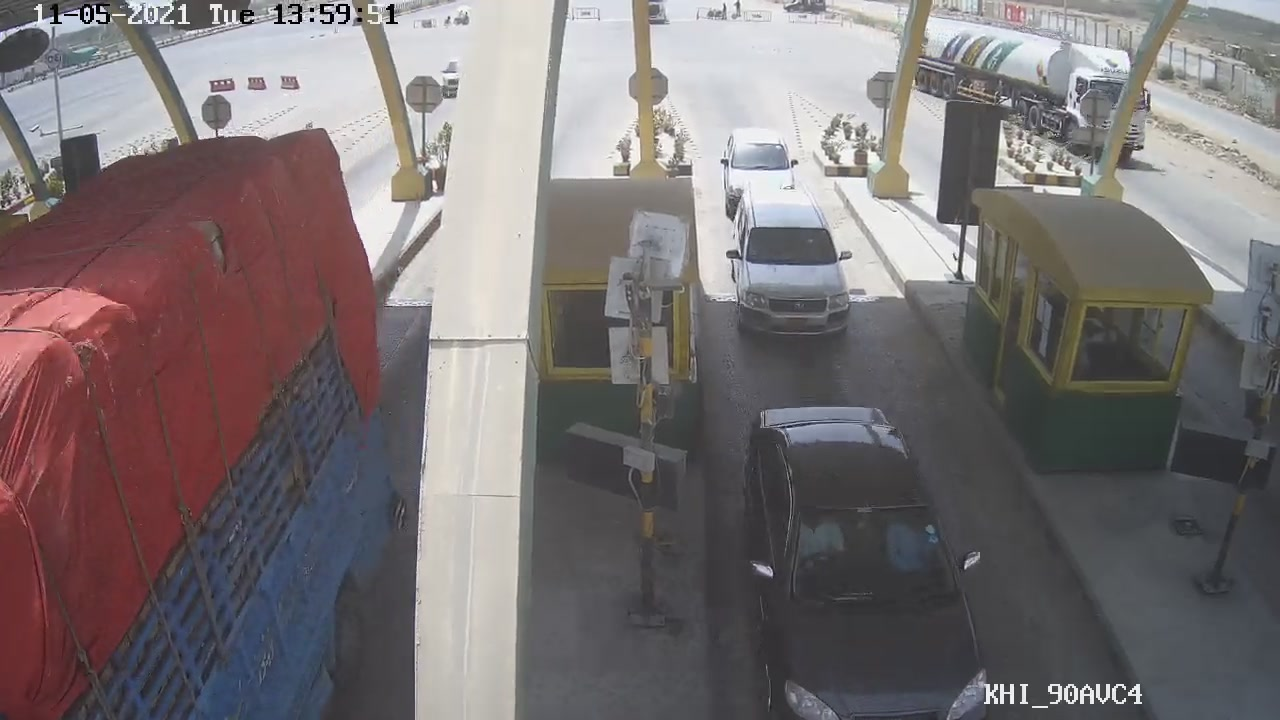F1: (716, 185, 859, 356)
